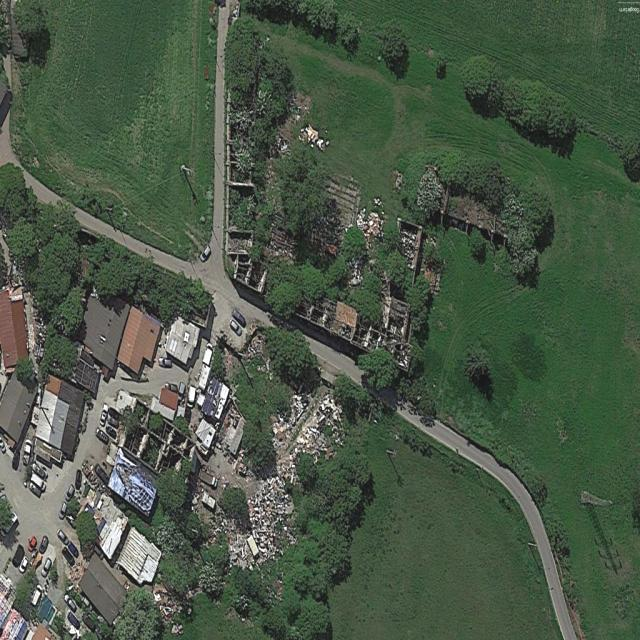dump_site: (273, 389, 348, 495), (245, 478, 291, 569), (264, 381, 312, 453), (211, 510, 256, 572), (351, 187, 392, 252), (151, 576, 181, 627), (296, 117, 334, 157)
